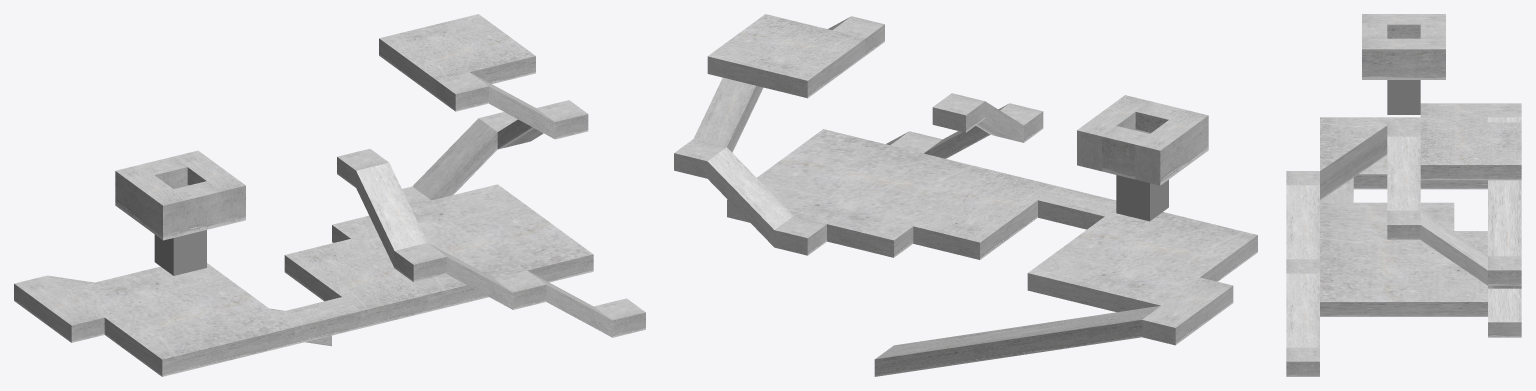
The model's file is chapel_map.fbx.
3 views of the same model, side by side, from view 1: azimuth 30°, elevation 25°; view 2: azimuth 150°, elevation 25°; view 3: azimuth 270°, elevation 25° (orthographic). The views are drawn at different scales.
Parts seen in each view (by area): view 1: polySurface68, polySurface71, polySurface46, polySurface70, polySurface55, polySurface59, polySurface69, polySurface51, polySurface67, polySurface54, polySurface58, polySurface57 (+11 smaller); view 2: polySurface71, polySurface68, polySurface46, polySurface66, polySurface70, polySurface55, polySurface69, polySurface51, polySurface47, polySurface67, polySurface54, polySurface58 (+10 smaller); view 3: polySurface71, polySurface46, polySurface66, polySurface68, polySurface54, polySurface70, polySurface49, polySurface61, polySurface64, polySurface59, polySurface47, polySurface69 (+11 smaller).
Part boxes in pixels (x1,y1,x2,y2): polySurface68: (67, 263, 294, 376); polySurface71: (332, 184, 593, 311); polySurface46: (379, 14, 535, 97); polySurface70: (284, 239, 427, 328); polySurface55: (115, 165, 187, 240); polySurface59: (356, 163, 427, 267); polySurface69: (14, 275, 104, 342); polySurface51: (412, 118, 497, 200); polySurface67: (276, 297, 361, 344); polySurface54: (173, 150, 245, 226); polySurface58: (154, 184, 206, 275); polySurface57: (174, 181, 221, 234); polySurface71: (727, 129, 989, 257); polySurface68: (1027, 208, 1257, 312); polySurface46: (707, 14, 865, 98); polySurface66: (874, 305, 1160, 376); polySurface70: (913, 170, 1056, 259); polySurface55: (1135, 109, 1208, 185); polySurface69: (1142, 277, 1233, 345); polySurface51: (707, 147, 793, 246); polySurface47: (693, 77, 763, 152); polySurface67: (1038, 186, 1116, 229); polySurface54: (1077, 95, 1149, 171); polySurface58: (1116, 129, 1168, 221); polySurface71: (1320, 231, 1487, 316); polySurface46: (1420, 122, 1521, 180); polySurface66: (1488, 117, 1521, 337); polySurface68: (1320, 117, 1487, 189); polySurface54: (1362, 38, 1445, 79); polySurface70: (1320, 202, 1454, 230); polySurface49: (1387, 136, 1420, 210); polySurface61: (1286, 185, 1319, 259); polySurface64: (1286, 273, 1319, 347); polySurface59: (1320, 126, 1387, 200); polySurface47: (1420, 211, 1487, 285); polySurface69: (1420, 103, 1521, 117).
Bounding box in the file's own units: 60 × 32 × 28.
2 materials, 1 textured.
